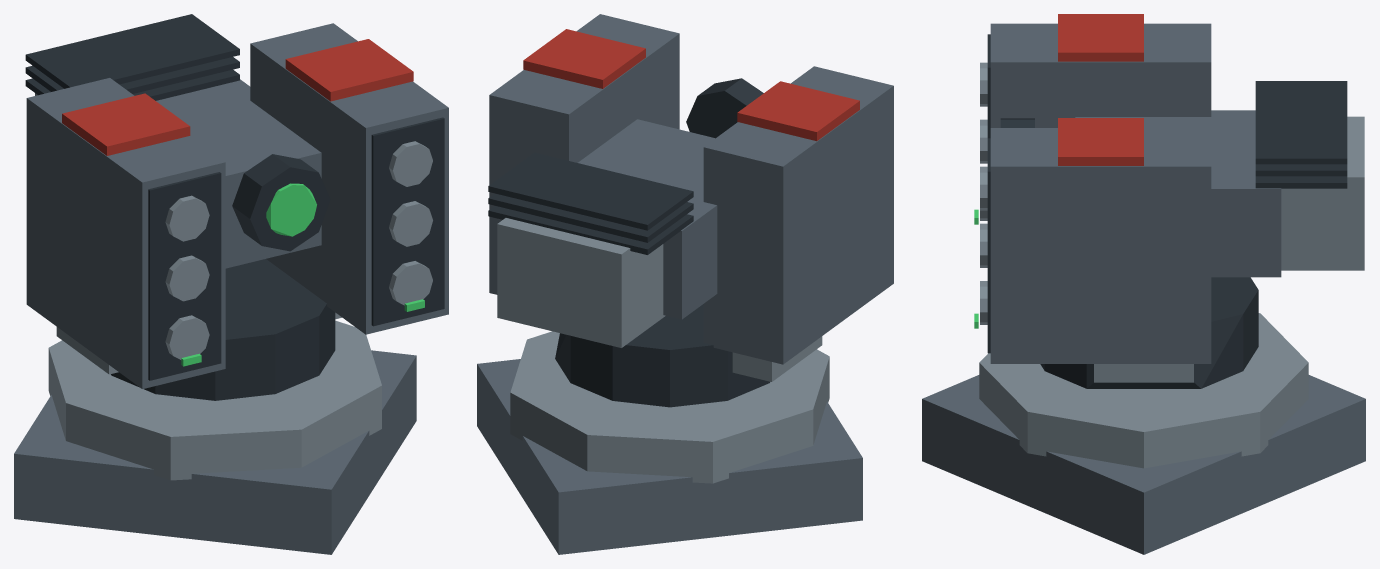
The model's file is quiver_t1_d0.meshopt.glb.
3 views of the same model, side by side, from view 1: azimuth 30°, elevation 25°; view 2: azimuth 150°, elevation 25°; view 3: azimuth 270°, elevation 25° (orthographic). The views are drawn at different scales.
Parts seen in each view (by area): view 1: ROOT_ARMOR_GEOMETRY; view 2: ROOT_ARMOR_GEOMETRY; view 3: ROOT_ARMOR_GEOMETRY.
Boxes of the visible parts, x1,y1,x2,y2 form: ROOT_ARMOR_GEOMETRY: (14,14,448,554); ROOT_ARMOR_GEOMETRY: (477,14,893,554); ROOT_ARMOR_GEOMETRY: (922,14,1365,554).
Size of the model in its own units: 1.55 by 1.45 by 1.55.
